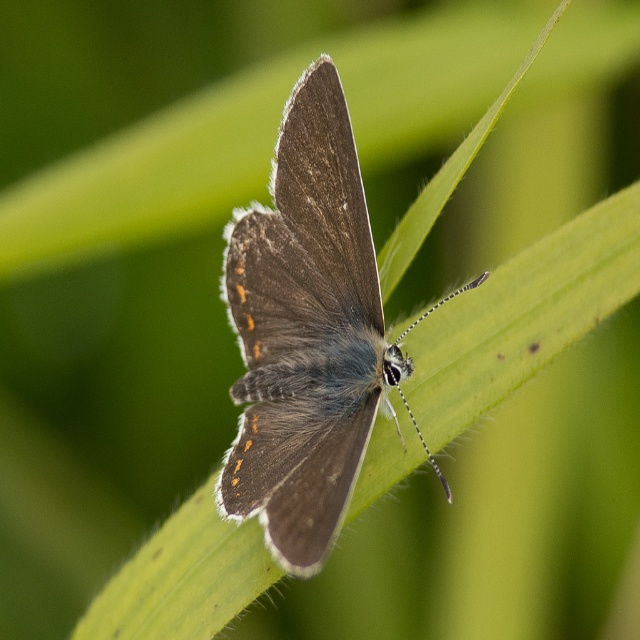Butterfly: (221, 69, 472, 600)
